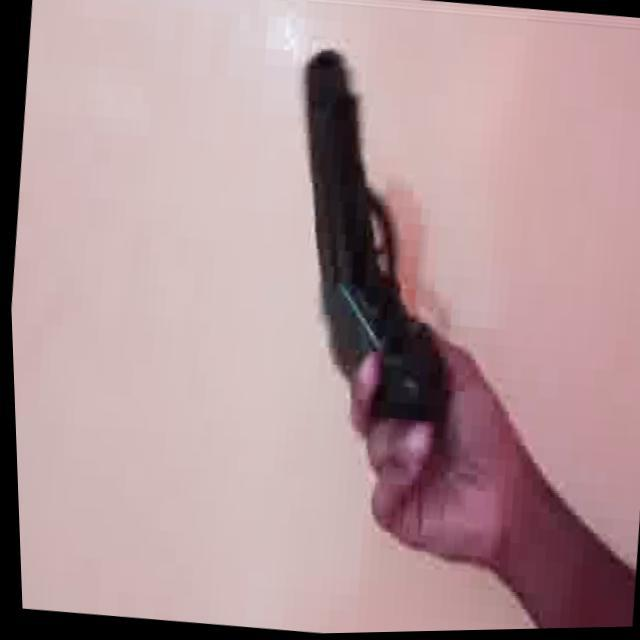weapon: (263, 41, 490, 458)
